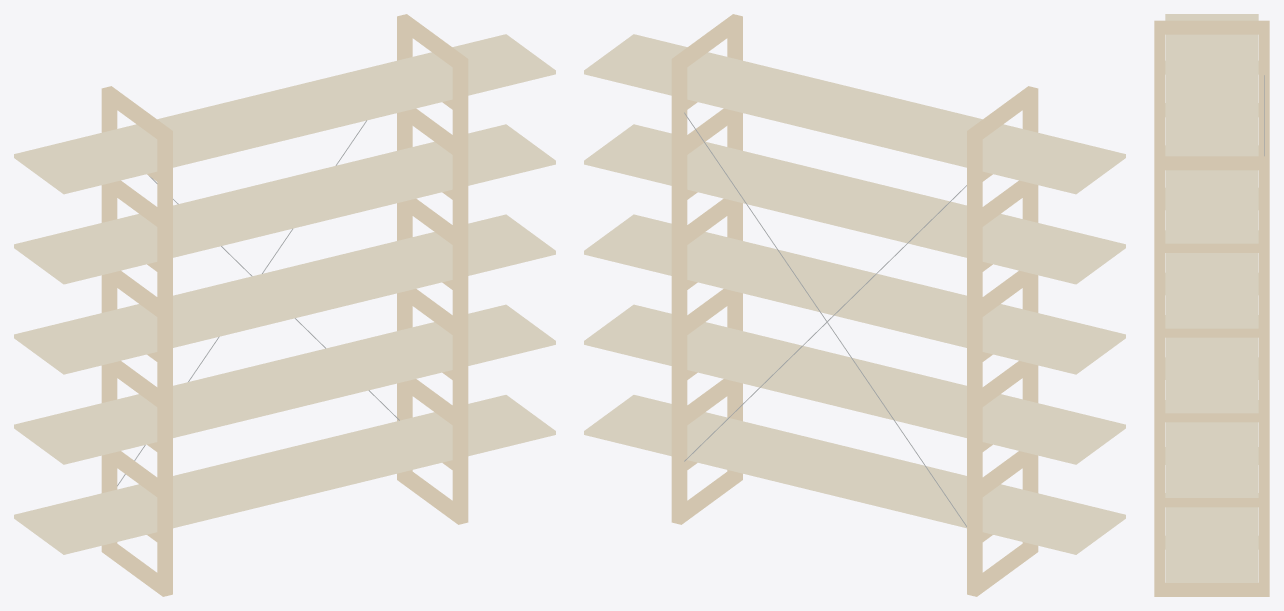
File: repicero-estefania.glb
The picture shows the model from 3 angles, left to right: view 1: azimuth 30°, elevation 25°; view 2: azimuth 150°, elevation 25°; view 3: azimuth 270°, elevation 25°; orthographic projection. The views are drawn at different scales.
Bounding box in the file's own units: 2 × 1.8 × 0.432.
